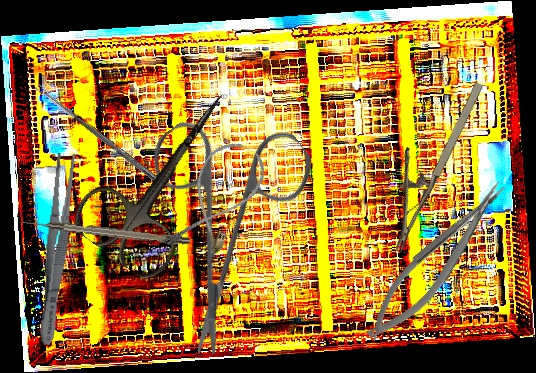Cannula: (160, 133, 273, 270)
Dressing Forceps: (34, 152, 79, 346)
Hook Surgical: (18, 216, 191, 247)
Iris Scissors: (81, 72, 370, 361), (65, 66, 266, 286)
Needle Holder: (353, 174, 522, 350), (361, 67, 489, 254)
Surgical Spoon: (34, 82, 165, 187)
